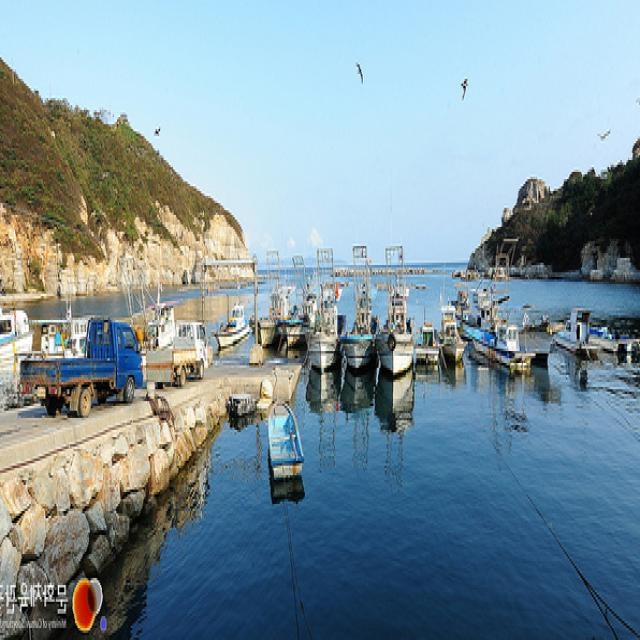fishing boat: (382, 246, 425, 375), (308, 243, 349, 374), (347, 235, 380, 374), (251, 258, 294, 350), (281, 255, 317, 354)
